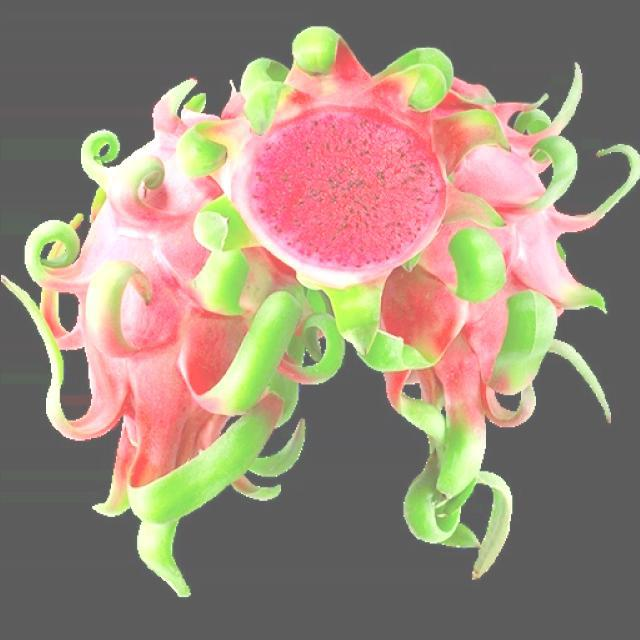do: (1, 66, 302, 604), (400, 142, 634, 580), (188, 28, 466, 282)
